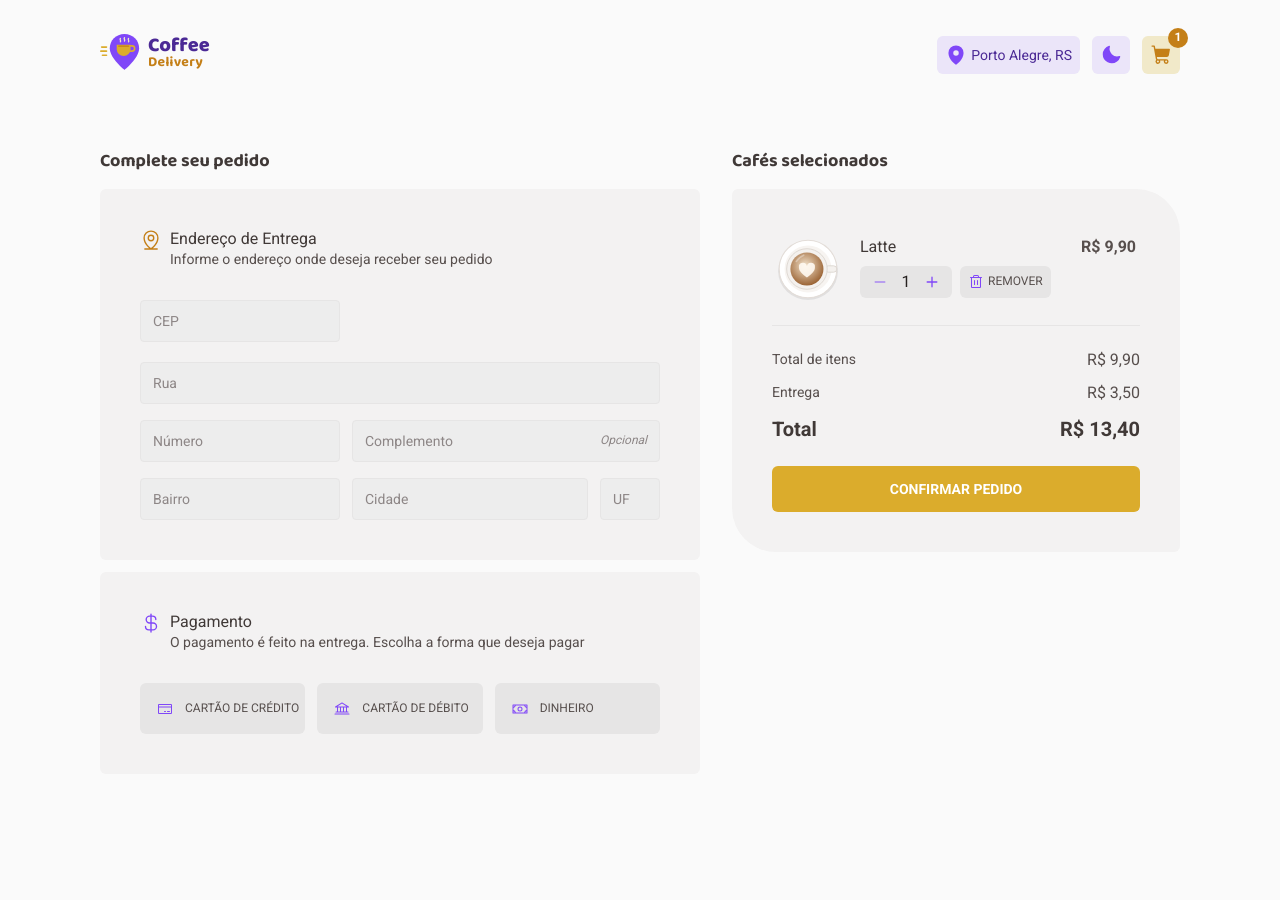
Test: Checkout › RF-08: preenche rua, bairro, cidade e UF a partir do CEP
This screenshot has width=1280, height=900.
Type "01310100" into the field labelled "CEP".
click(240, 321); type("01310100")  # box [153,301,327,341]
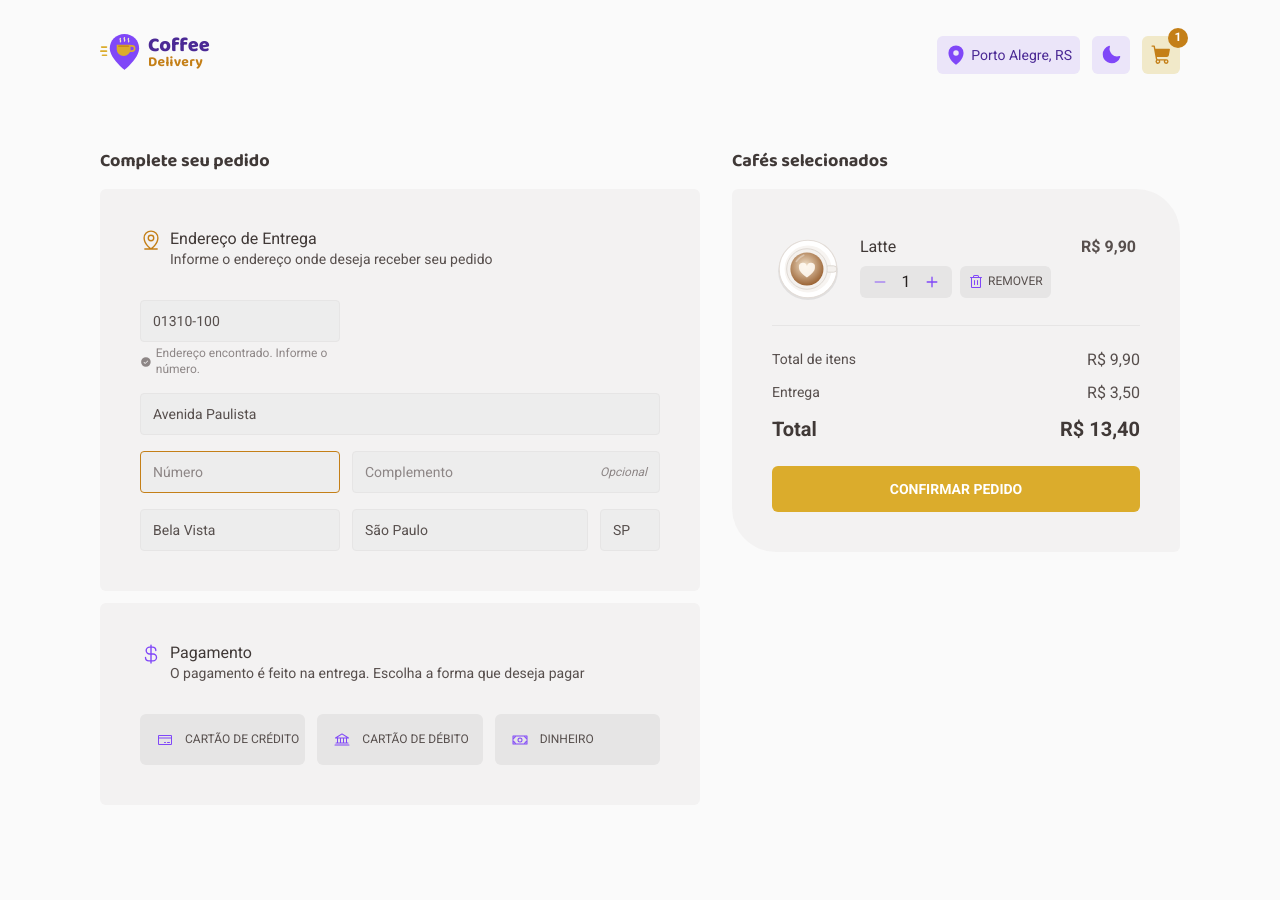
Now the 2nd field named "Rua" holds "Avenida Paulista", box [153,394,647,434]
Now the 1st field named "CEP" holds "01310-100", box [153,301,327,341]
Now the 3rd field named "Bairro" holds "Bela Vista", box [153,510,327,550]
